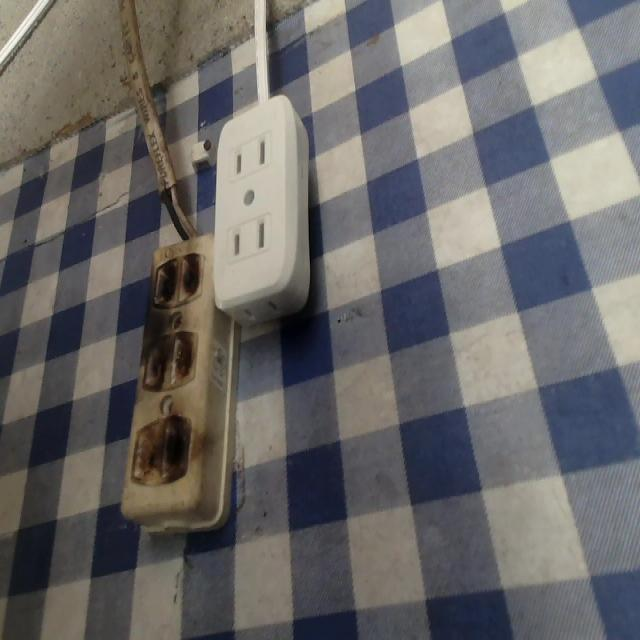-: (125, 413, 200, 491), (135, 326, 202, 394), (149, 247, 208, 309)
